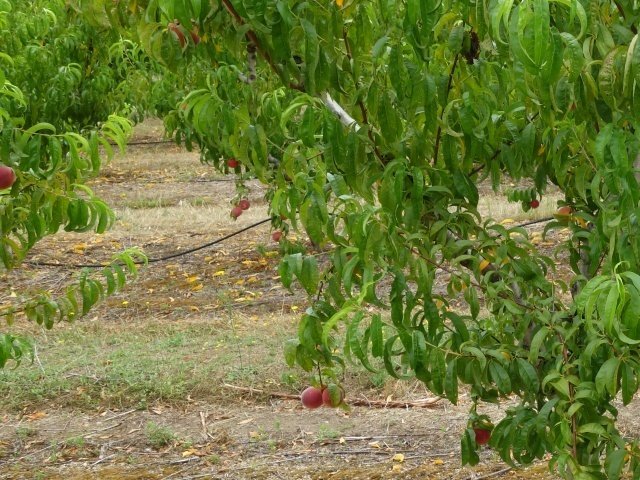peach: (318, 381, 347, 411), (296, 385, 326, 413), (468, 422, 493, 446), (1, 163, 19, 192)
